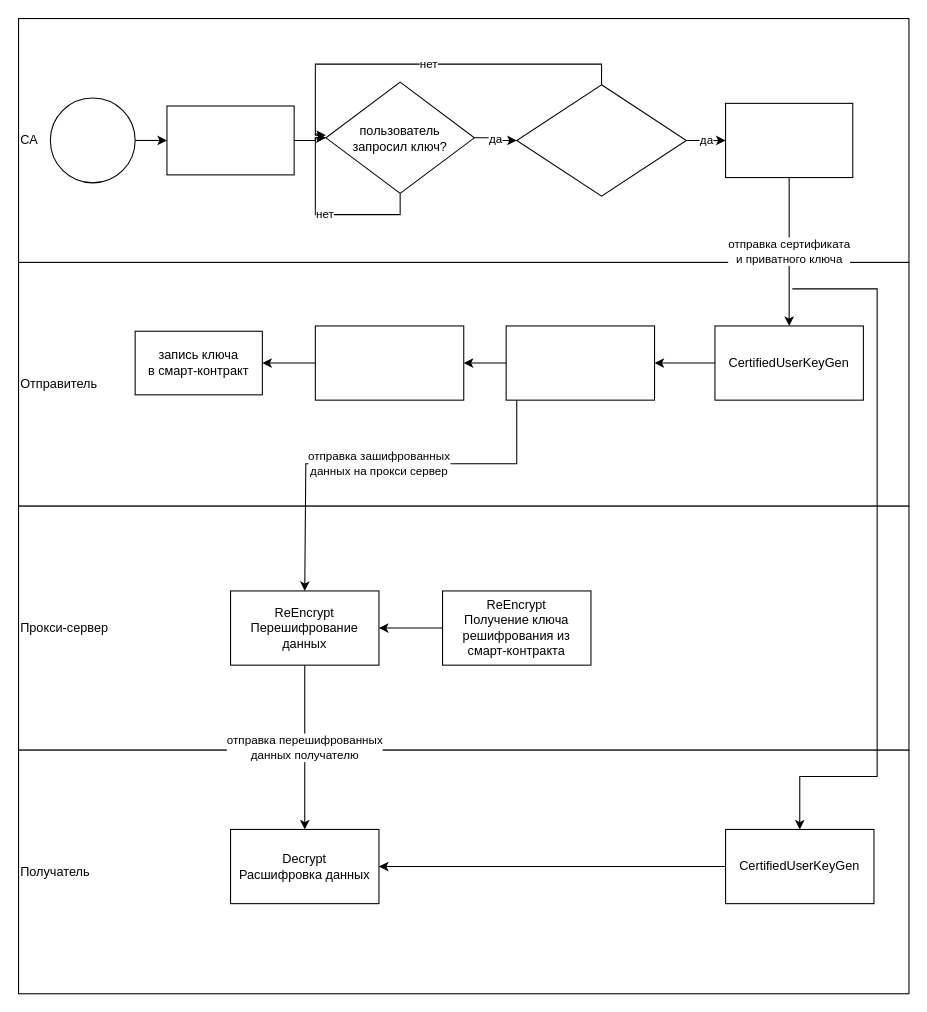
Image size: 927x1012. Some labels were removed from this diagram. The shapes that lost their labels are listed below. From the top down, each one's centre as x and y in pixels, then its label:
point 92,140: начало
point 230,140: Setup генерация параметров
point 601,140: удалось авторизоваться?
point 789,140: Setup Генерация приватных ключей
point 389,362: Encrypt Создание решифровочного ключа
point 580,362: Encrypt Шифрование данных
